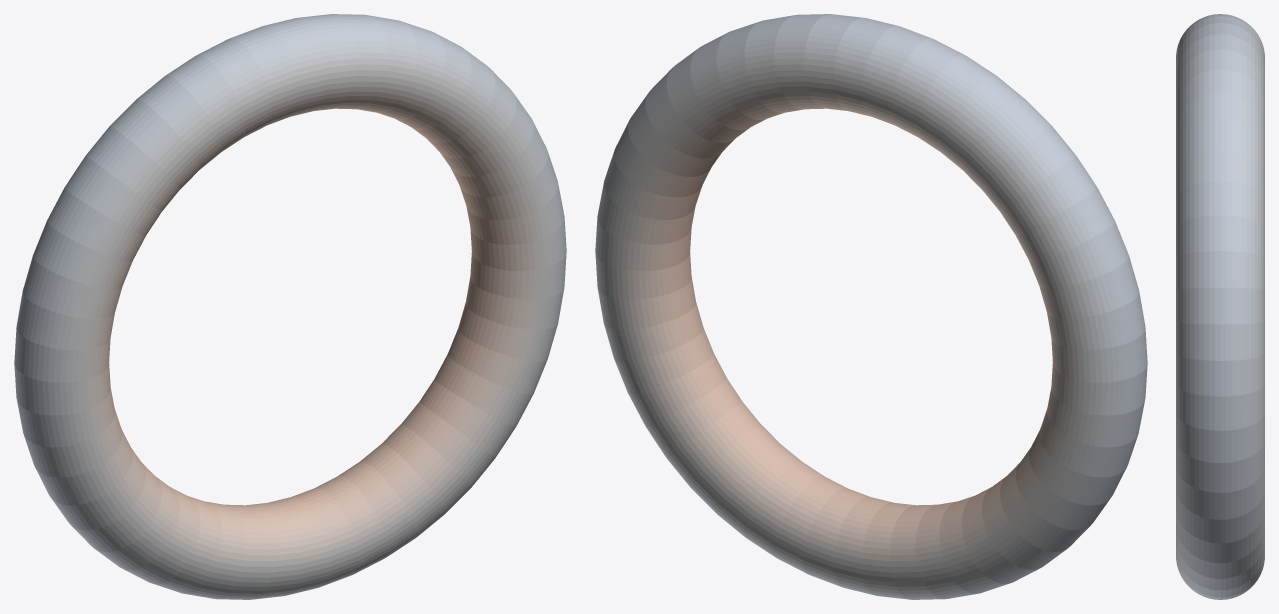
3 views of the same model, side by side, from view 1: azimuth 30°, elevation 25°; view 2: azimuth 150°, elevation 25°; view 3: azimuth 270°, elevation 25° (orthographic). The views are drawn at different scales.
Parts seen in each view (by area): view 1: world; view 2: world; view 3: world.
Boxes of the visible parts, left/top/right/bottom form: world: left=14, top=14, right=566, bottom=599; world: left=595, top=14, right=1147, bottom=599; world: left=1176, top=14, right=1264, bottom=599.
Size of the model in its own units: 30.67 by 30.61 by 4.66.
